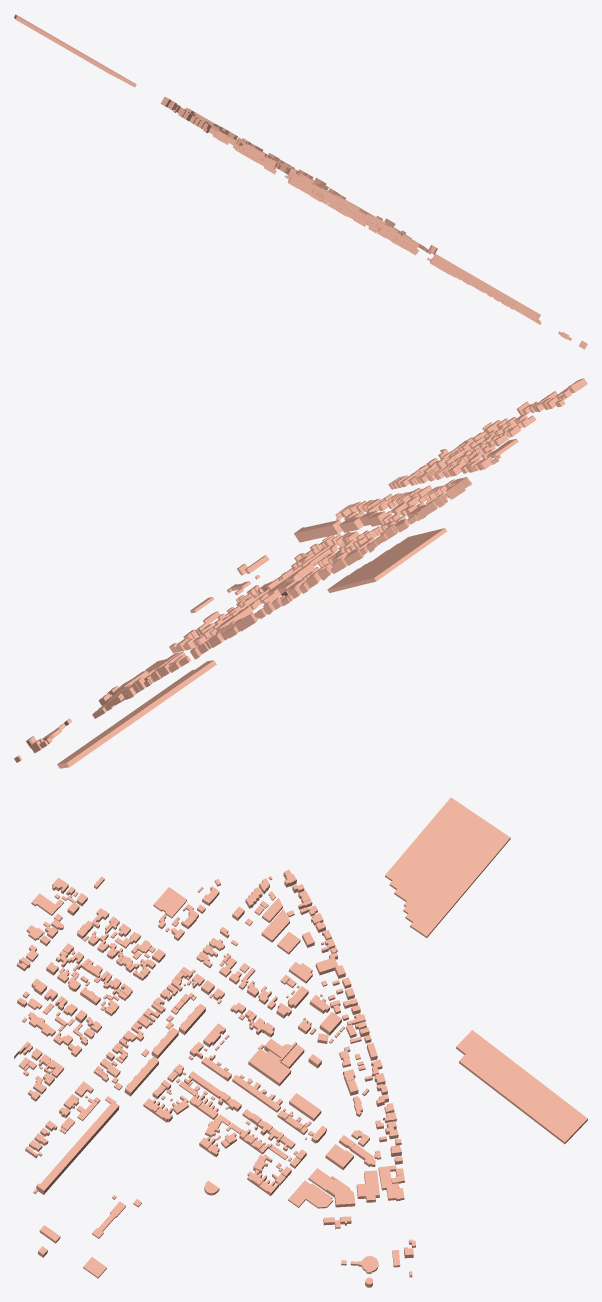
3 views of the same model, one above another, from view 1: azimuth 30°, elevation 25°; view 2: azimuth 150°, elevation 25°; view 3: azimuth 270°, elevation 25° (orthographic). The views are drawn at different scales.
Size of the model in its own units: 571 by 427 by 731.
